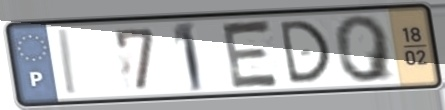1: (169, 20, 207, 94)
7: (111, 26, 157, 93)
D: (276, 18, 334, 87)
E: (219, 17, 283, 91)
I: (57, 26, 81, 98)
Q: (331, 13, 398, 85)
